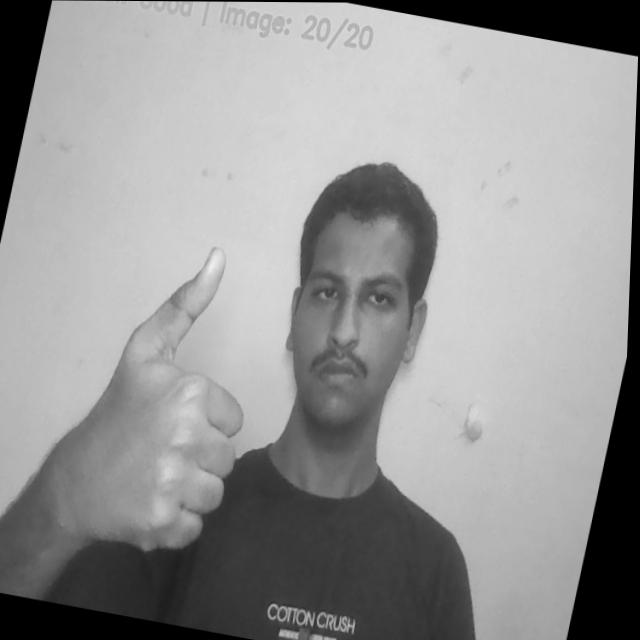Good: (72, 234, 278, 562)
